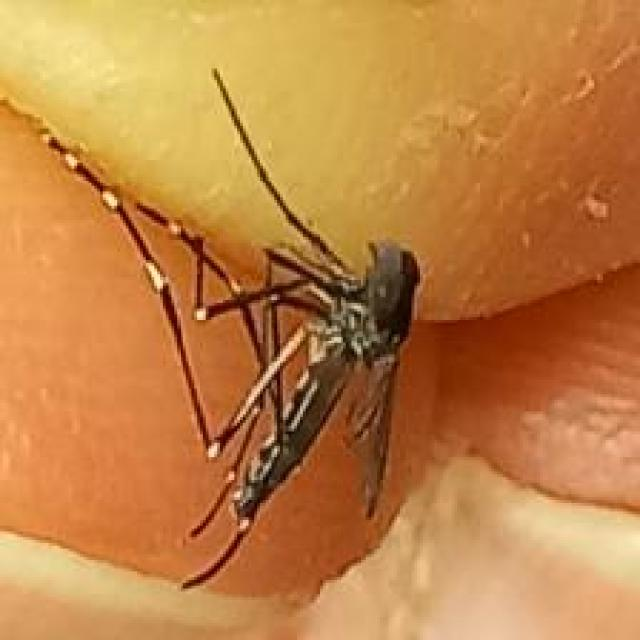Aedes albopictus: (4, 64, 424, 593)
